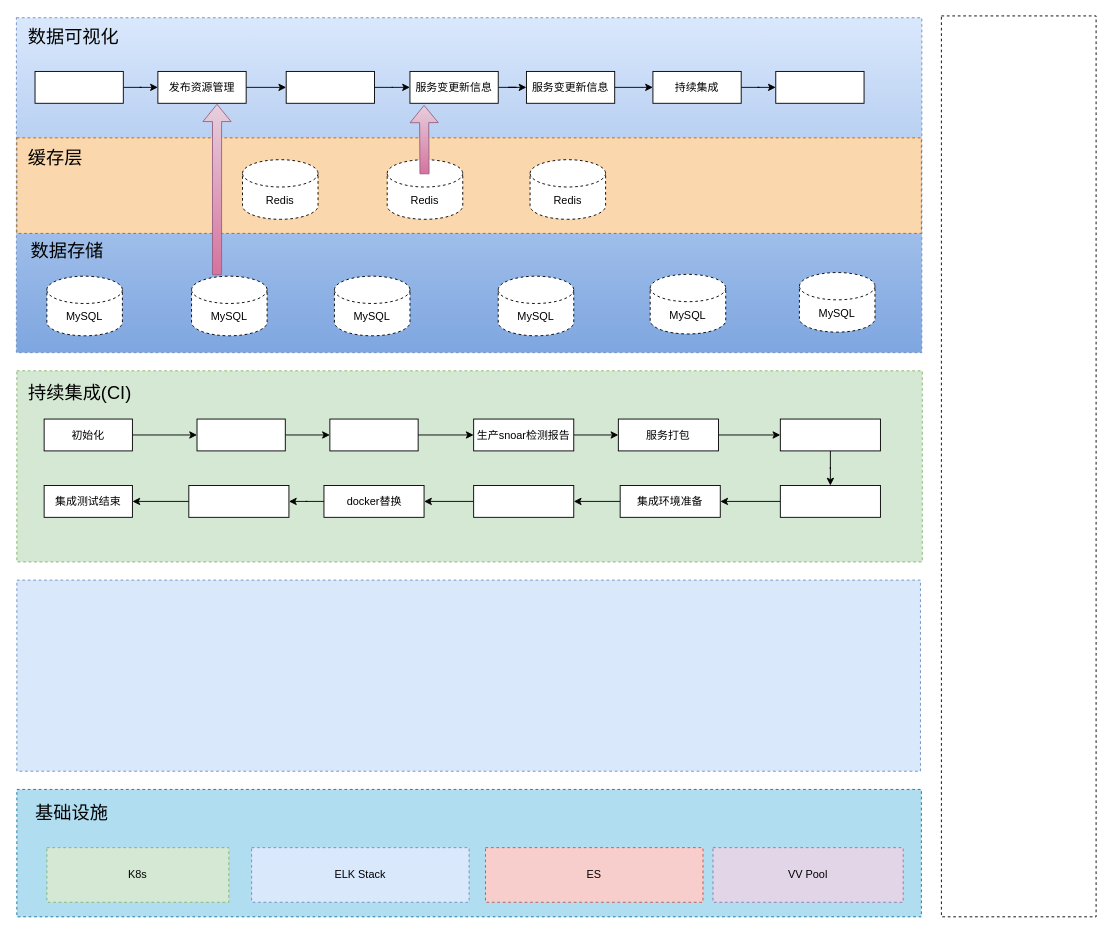
The diagram is 1112 pixels wide and 933 high, and some of its shapes have lost their labels. The shapes that lost their labels are listed below. From the top down, each one's centre as x and y in pixels, then its label:
At (x=78, y=87): "发布管理".
At (x=329, y=87): "发布执行".
At (x=819, y=87): "持续部署信息".
At (x=240, y=434): "静态代码检查".
At (x=373, y=434): "单元测试".
At (x=829, y=434): "服务的上传镜像".
At (x=238, y=501): "集成测试报告".
At (x=523, y=501): "镜像构建".
At (x=829, y=501): "镜像扫描".
At (x=468, y=675): "持续部署（CD）".
